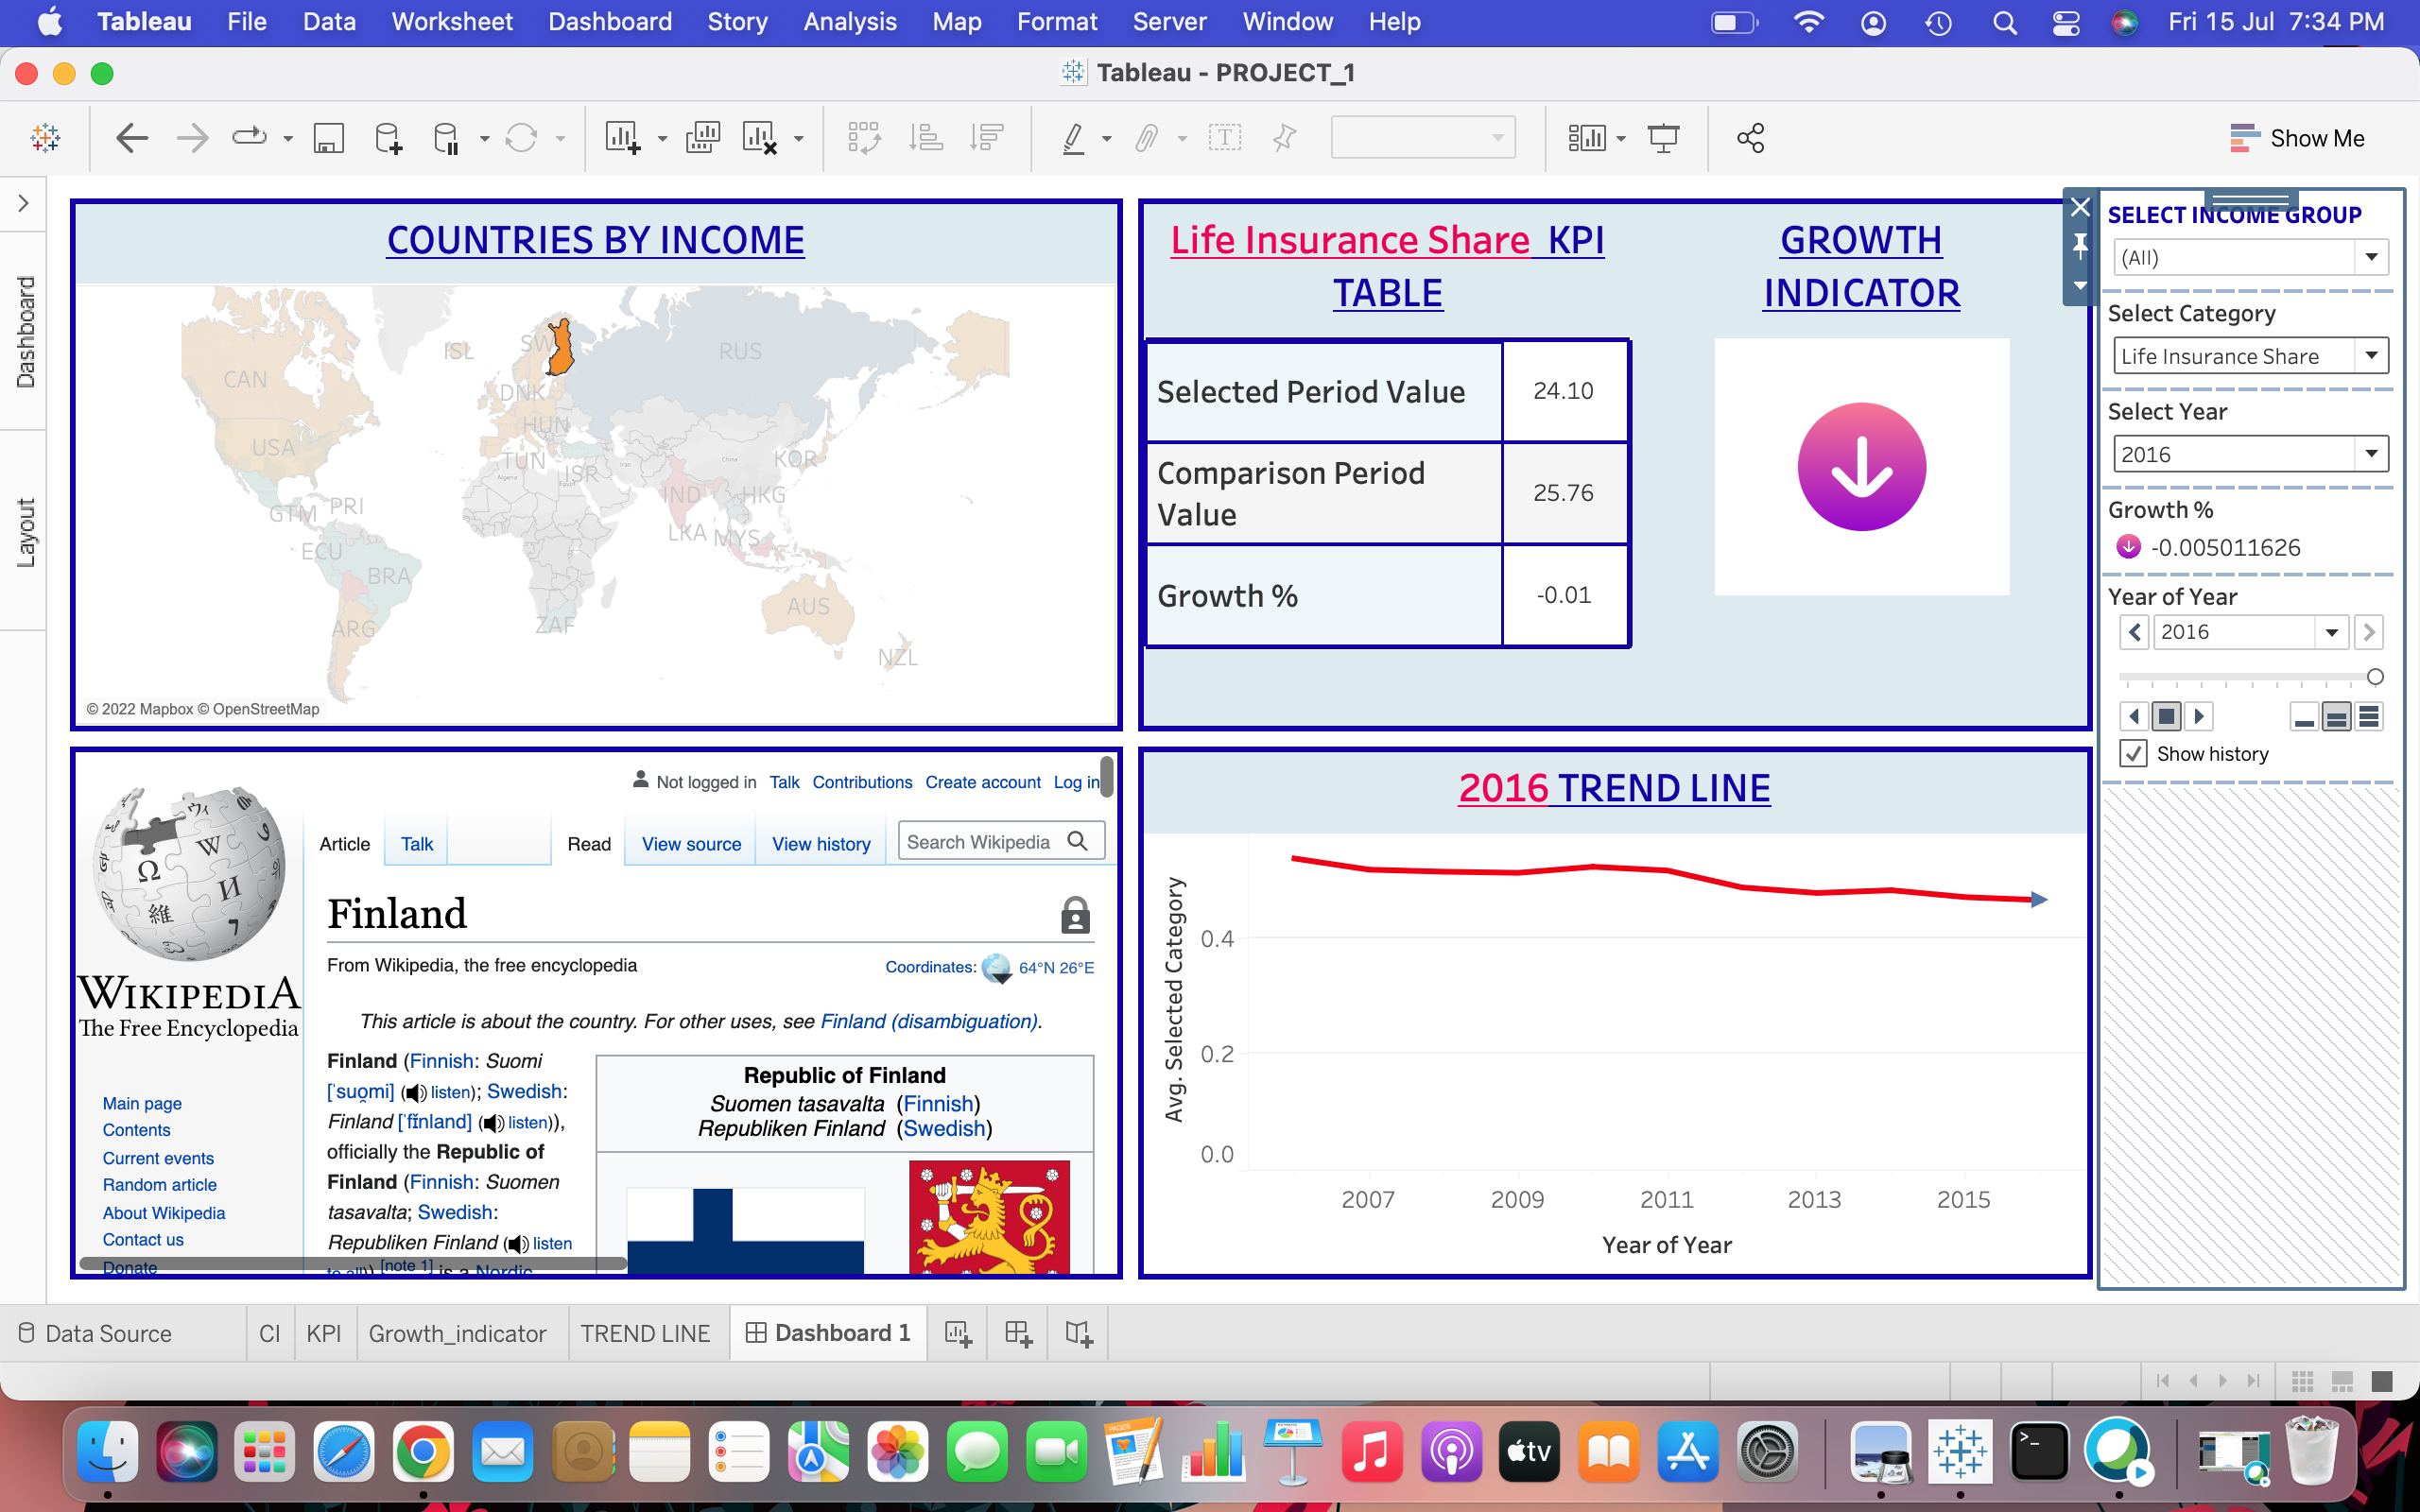

The page's visual inventory and layout, read from the dashboard file:
{"tool":"tableau","page":{"name":"Dashboard 1","canvas":[1000,1000],"units":"permille","ordinal":0},"visuals":[{"type":"worksheet","title":"CI","mark":"Multipolygon","box":[7.5,13.4,437.8,486.6]},{"type":"worksheet","title":"KPI","mark":"Automatic","box":[445.2,13.4,397.6,486.6]},{"type":"filter","title":"CI","param":"[federated.1fipu211le5kca1h7y9bp1ckrg3c].[none:income:nk]","box":[842.9,13.4,149.7,87.2]},{"type":"worksheet","title":"Growth_indicator","mark":"Shape","box":[703.5,25.2,124.4,347.3]},{"type":"parameter","param":"[Parameters].[Parameter 1]","box":[842.9,100.7,149.7,87.2]},{"type":"parameter","param":"[Parameters].[Parameter 2]","box":[842.9,187.9,149.7,87.2]},{"type":"legend","title":"Growth_indicator","param":"[federated.1lisj040h324w918qebh61sk974a].[usr:Calculation_2968012947827757062:ok","box":[842.9,275.2,149.7,77.2]},{"type":"currpage","title":"TREND LINE","box":[842.9,352.4,149.7,184.6]},{"type":"web page","param":"https://en.wikipedia.org/wiki/Australia","box":[7.5,500,437.8,486.6]},{"type":"worksheet","title":"TREND LINE","mark":"Shape","rows":["Calculation_2968012947826745347"],"cols":["Year"],"box":[445.2,500,397.6,486.6]},{"type":"image","box":[842.9,536.9,149.7,181.2]},{"type":"dashboard-object","box":[843.8,587.2,153.4,95.6]},{"type":"image","param":"/Users/Apple/Desktop/download.jpeg","box":[858.8,728.2,125.4,226.5]}]}

Visuals, with their boxes on the dashboard's canvas, which has no fixed pixel size, in thousandths of its width and height (x1, y1, x2, y2). These are canvas units, not pixel positions in the 2420x1512 screenshot, which may show the page scaled, cropped or inside an application window:
"CI" worksheet (Multipolygon marks): [8, 13, 445, 500]
"KPI" worksheet: [445, 13, 843, 500]
"CI" filter: [843, 13, 993, 101]
"Growth_indicator" worksheet (Shape marks): [704, 25, 828, 372]
parameter: [843, 101, 993, 188]
parameter: [843, 188, 993, 275]
"Growth_indicator" legend: [843, 275, 993, 352]
"TREND LINE" currpage: [843, 352, 993, 537]
web page: [8, 500, 445, 987]
"TREND LINE" worksheet (Shape marks): [445, 500, 843, 987]
image: [843, 537, 993, 718]
dashboard-object: [844, 587, 997, 683]
image: [859, 728, 984, 955]
